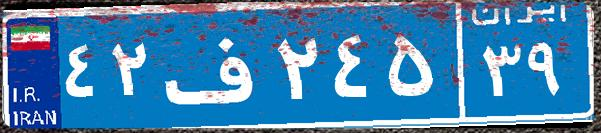2: (273, 28, 330, 110), (110, 28, 158, 105)
3: (475, 38, 525, 113)
4: (330, 28, 385, 110), (57, 26, 110, 107)
5: (385, 28, 445, 110)
9: (525, 38, 570, 115)
ف: (158, 15, 273, 115)
